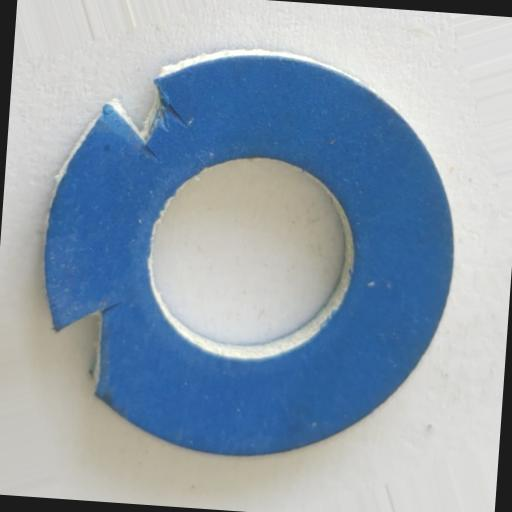defect: (101, 74, 193, 164), (50, 305, 110, 398)
